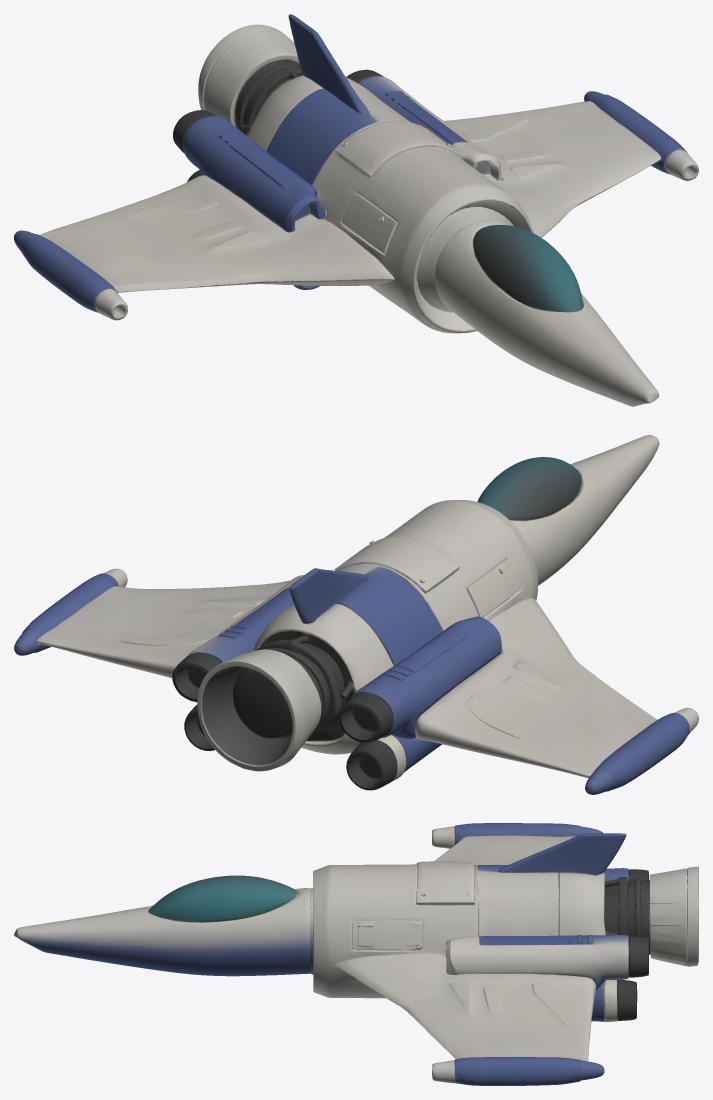
The model's file is courier3.glb.
The picture shows the model from 3 angles, top to bottom: view 1: azimuth 30°, elevation 25°; view 2: azimuth 150°, elevation 25°; view 3: azimuth 270°, elevation 25°; orthographic projection. The views are drawn at different scales.
Parts seen in each view (by area): view 1: model; view 2: model; view 3: model.
Part boxes in pixels (<box>): model: <box>14,14,698,406</box>; model: <box>14,435,698,794</box>; model: <box>14,823,698,1085</box>.
Bounding box in the file's own units: 1.62 × 0.4863 × 1.9.
1 material, 1 textured.
